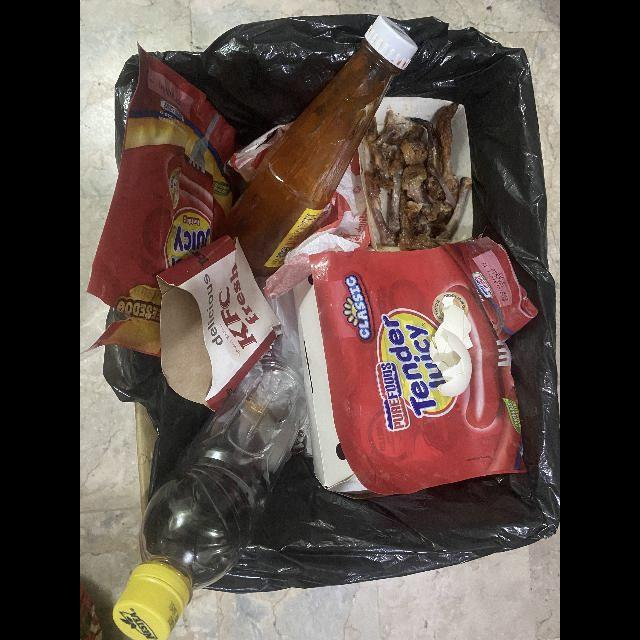cardboard: (155, 233, 285, 412)
food_wrapper: (310, 236, 538, 497), (86, 42, 247, 355)
glass_bottle: (220, 13, 415, 290)
left_over_food: (364, 106, 474, 252)
paper: (264, 148, 370, 301)
plastic_bottle: (113, 355, 309, 640)
